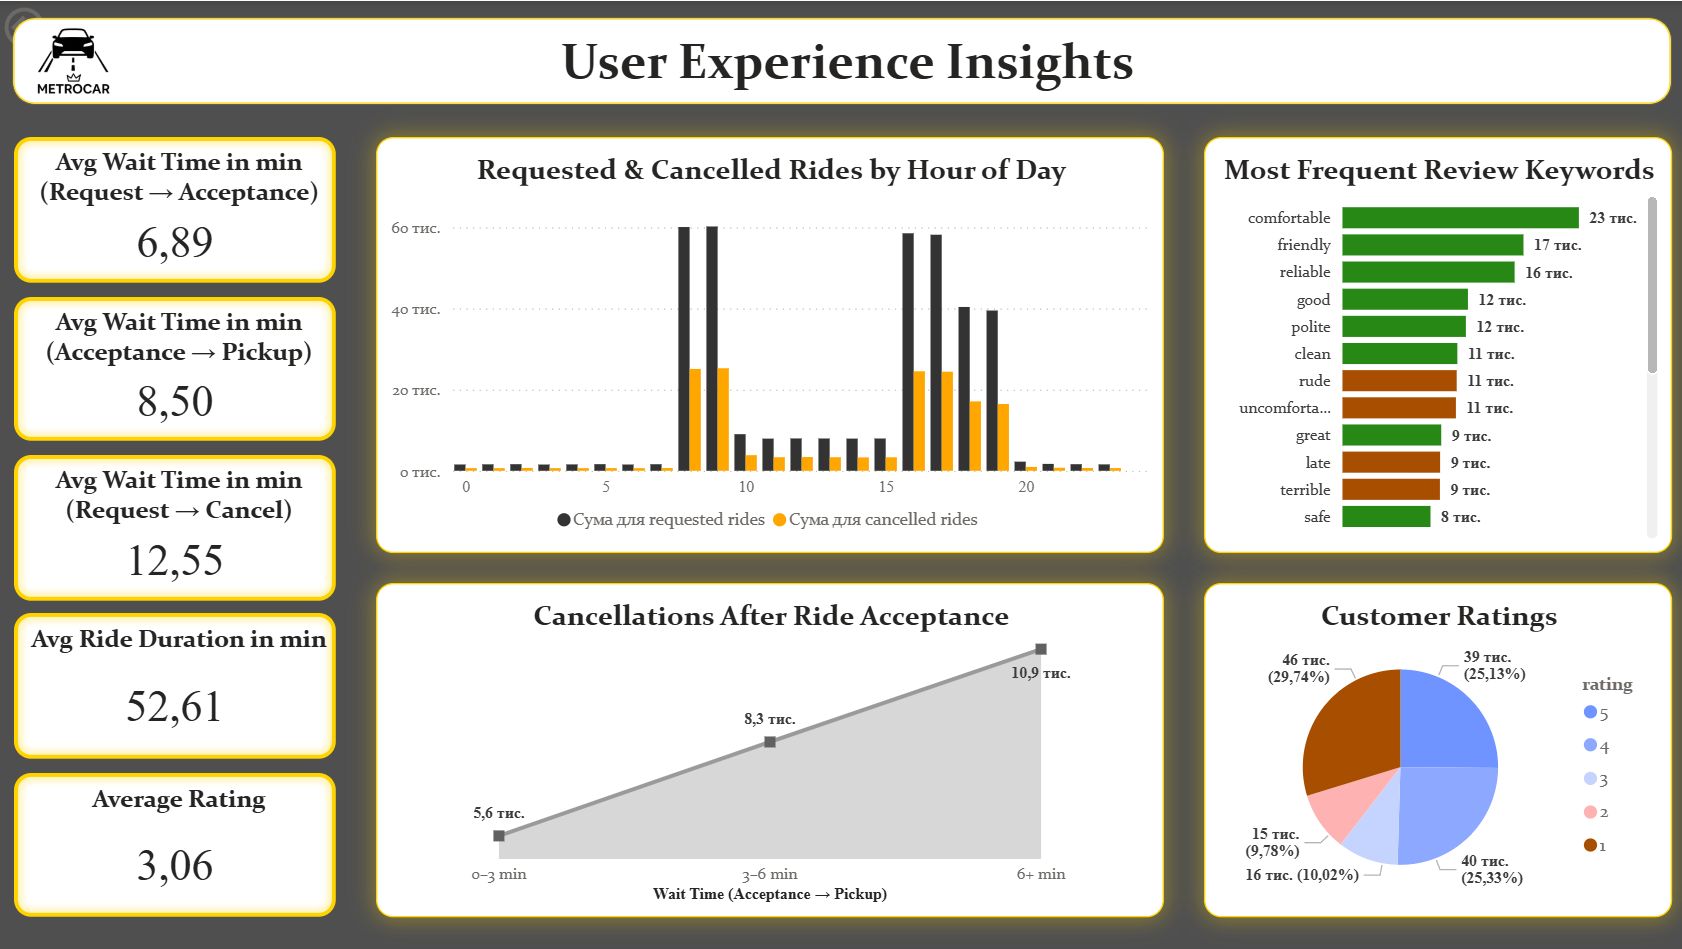

The page's visual inventory and layout, read from the dashboard file:
{"tool":"powerbi","page":{"name":"User Experience Insights","canvas":[1280,720],"ordinal":1},"visuals":[{"type":"actionButton","box":[0,0,100,40],"z":0},{"type":"shape","box":[10.6,12,1258.8,66.7],"z":0,"group":"g1"},{"type":"textbox","box":[36.2,18,1215.6,55.9],"z":1000,"group":"g1"},{"type":"clusteredBarChart","title":"Most Frequent Review Keywords","fields":{"Category":["reviews.keyword"],"Y":["Sum(reviews.count)"]},"box":[914.5,103,354.9,315.5],"z":1000},{"type":"areaChart","title":"Cancellations After Ride Acceptance","fields":{"Y":["Sum(Cancellations After Ride Acceptance.cancelled_after_accept)"],"Category":["Cancellations After Ride Acceptance.wait_period_pickup"]},"box":[287,441.3,597.5,253.3],"z":2000},{"type":"clusteredColumnChart","title":"Requested & Cancelled Rides  by Hour of Day","fields":{"Category":["2  canceled requests by dow, hod, wait period.hour_of_day"],"Y":["Sum(2  canceled requests by dow, hod, wait period.total_requests)","Sum(2  canceled requests by dow, hod, wait period.cancelled_requests)"]},"box":[287,103.1,597.5,315.5],"z":3000},{"type":"pieChart","title":"Customer Ratings","fields":{"Category":["rating.rating"],"Y":["Sum(Ratings.count)"]},"box":[914.5,442,354.9,253.3],"z":4000},{"type":"group","id":"g1","title":"Група 3","box":[10.6,12,1258.8,66.7],"z":5000},{"type":"card","title":"Avg Wait Time in min (Request → Cancel)","fields":{"Values":["Sum(Wait.avg_wait_cancel_min)"]},"box":[11.4,343.5,244.2,110.7],"z":6000},{"type":"card","title":"Avg Ride Duration in min ","fields":{"Values":["Sum(Wait.avg_ride_min)"]},"box":[11.4,464.5,244.2,110.7],"z":7000},{"type":"card","title":"Average Rating","fields":{"Values":["rating.Average Rating"]},"box":[12.1,585.4,244.2,109.2],"z":8000},{"type":"image","box":[10.6,9.1,95.5,74.3],"z":9000},{"type":"card","title":"Avg Wait Time in min (Request → Acceptance)","fields":{"Values":["Sum(Wait.avg_wait_accept_min)"]},"box":[12.1,103.1,244.2,110.7],"z":10000},{"type":"card","title":"Avg Wait Time in min (Acceptance → Pickup)","fields":{"Values":["Sum(Wait.avg_wait_pickup_min)"]},"box":[11.4,224.1,244.2,109.2],"z":11000}]}

Visuals, with their boxes in screenshot pixels (x1, y1, x2, y2), scaled from the page's 1280x720 canvas onto the 1682x949 screenshot:
actionButton: Rect(0, 0, 131, 53)
shape: Rect(14, 16, 1668, 104)
textbox: Rect(48, 24, 1645, 97)
"Most Frequent Review Keywords" clusteredBarChart: Rect(1202, 136, 1668, 552)
"Cancellations After Ride Acceptance" areaChart: Rect(377, 582, 1162, 916)
"Requested & Cancelled Rides  by Hour of Day" clusteredColumnChart: Rect(377, 136, 1162, 552)
"Customer Ratings" pieChart: Rect(1202, 583, 1668, 916)
"Група 3" group: Rect(14, 16, 1668, 104)
"Avg Wait Time in min (Request → Cancel)" card: Rect(15, 453, 336, 599)
"Avg Ride Duration in min " card: Rect(15, 612, 336, 758)
"Average Rating" card: Rect(16, 772, 337, 916)
image: Rect(14, 12, 139, 110)
"Avg Wait Time in min (Request → Acceptance)" card: Rect(16, 136, 337, 282)
"Avg Wait Time in min (Acceptance → Pickup)" card: Rect(15, 295, 336, 439)
